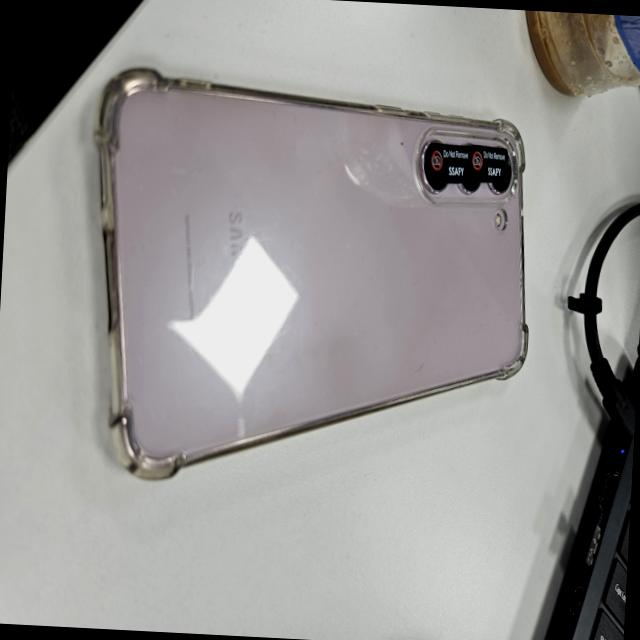phone: (75, 66, 544, 500)
sticker: (468, 144, 511, 186), (427, 143, 471, 181)
